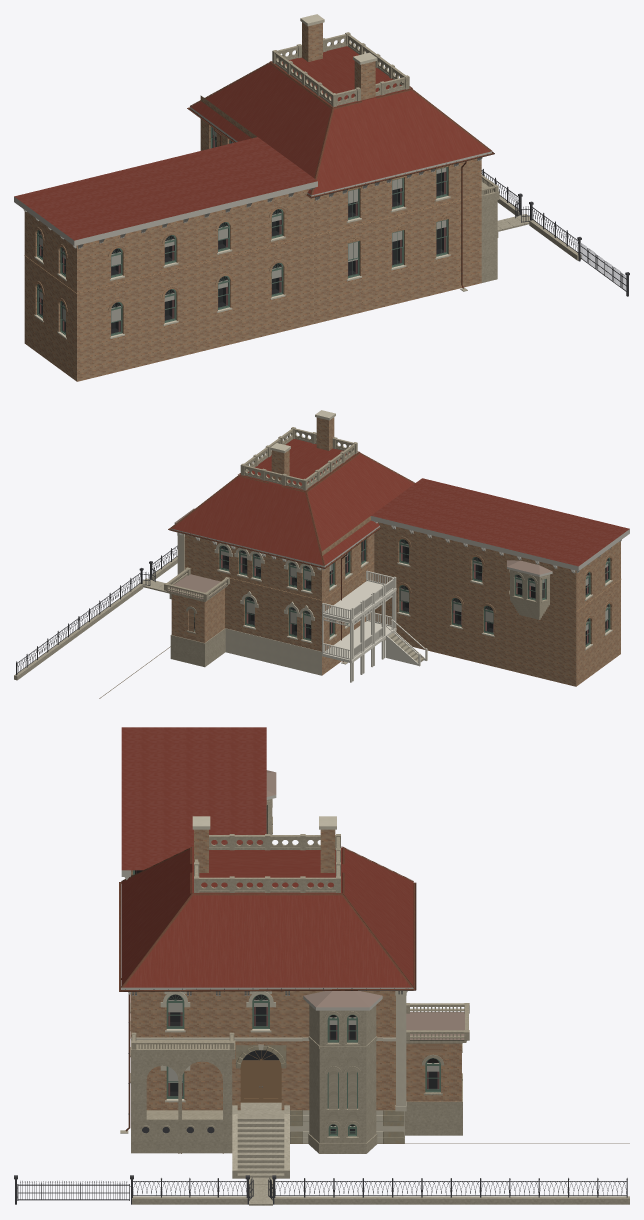
File: hibbard_house_1701_prairie__as_mapped_1904.glb
The picture shows the model from 3 angles, top to bottom: view 1: azimuth 30°, elevation 25°; view 2: azimuth 150°, elevation 25°; view 3: azimuth 270°, elevation 25°; orthographic projection. The views are drawn at different scales.
Visible parts, largest first — view 1: hibbard_house_1701_prairie__as_mapped_1904; view 2: hibbard_house_1701_prairie__as_mapped_1904; view 3: hibbard_house_1701_prairie__as_mapped_1904.
Part boxes in pixels (x1=…): hibbard_house_1701_prairie__as_mapped_1904: x1=14, y1=14, x2=629, y2=381; hibbard_house_1701_prairie__as_mapped_1904: x1=14, y1=410, x2=629, y2=698; hibbard_house_1701_prairie__as_mapped_1904: x1=14, y1=727, x2=629, y2=1205.
Bounding box in the file's own units: 38.44 × 16.25 × 33.11.
Materials: 27 (15 with a texture image).
